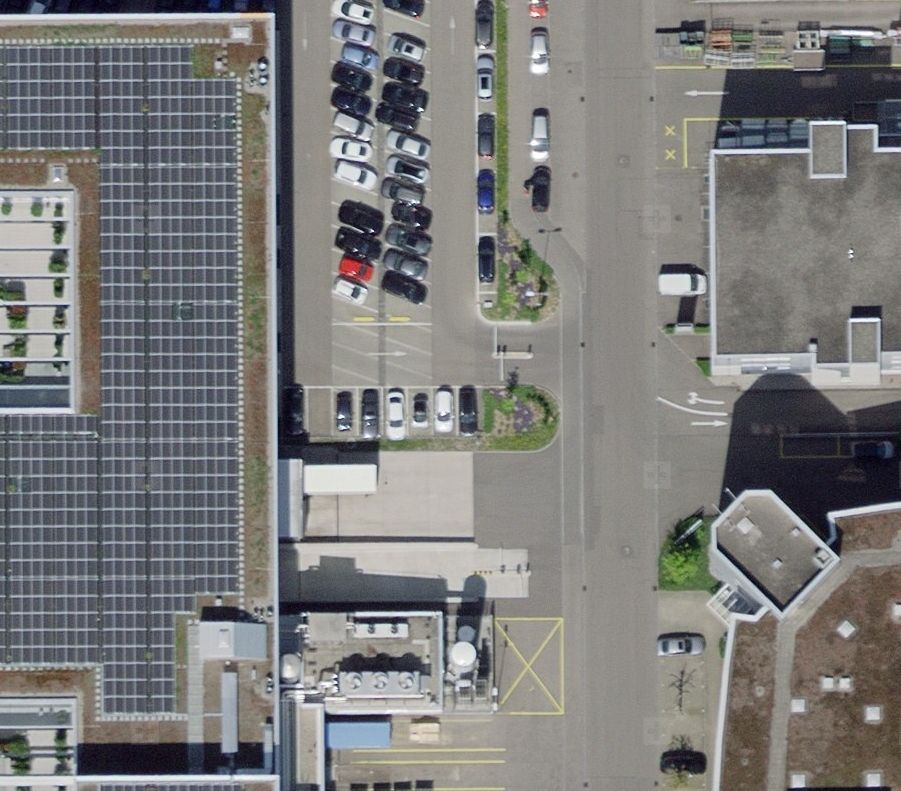solar: (100, 48, 243, 716), (1, 413, 99, 666), (1, 46, 97, 149)
